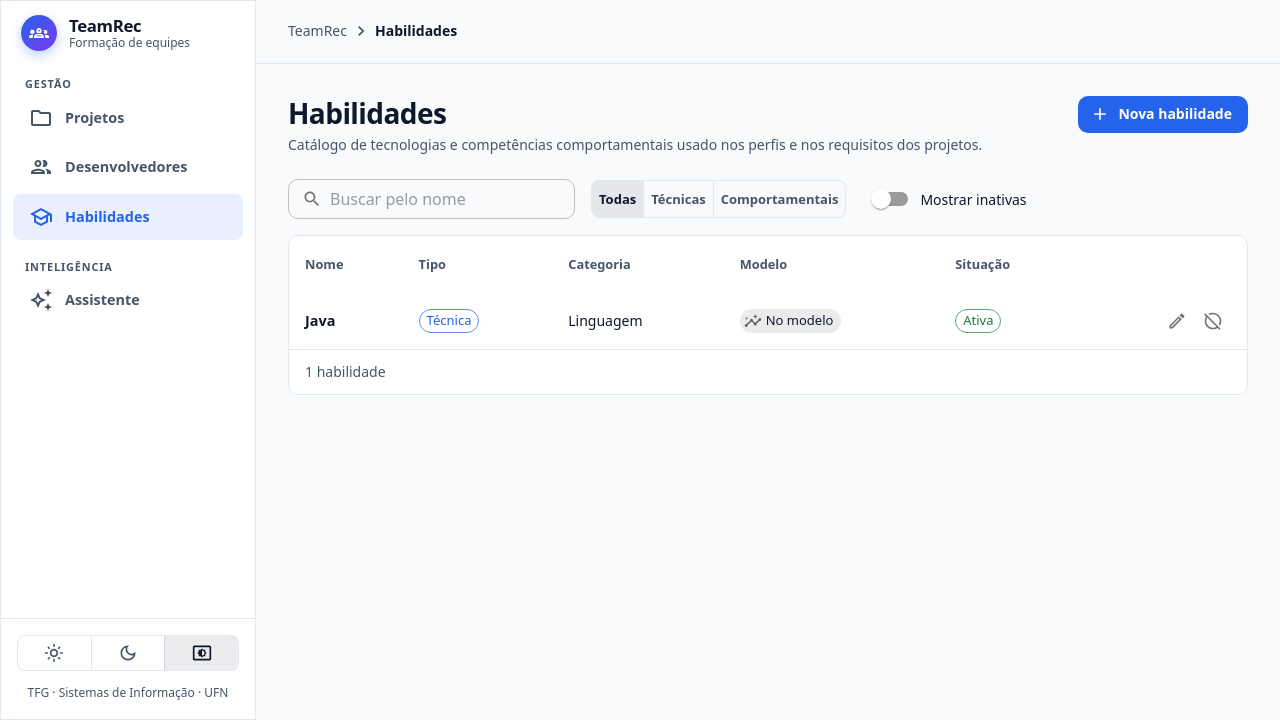
Test: pagina de habilidades › cadastra uma nova habilidade
Click the button "Nova habilidade": (1163, 114) [1078,96,1248,132]
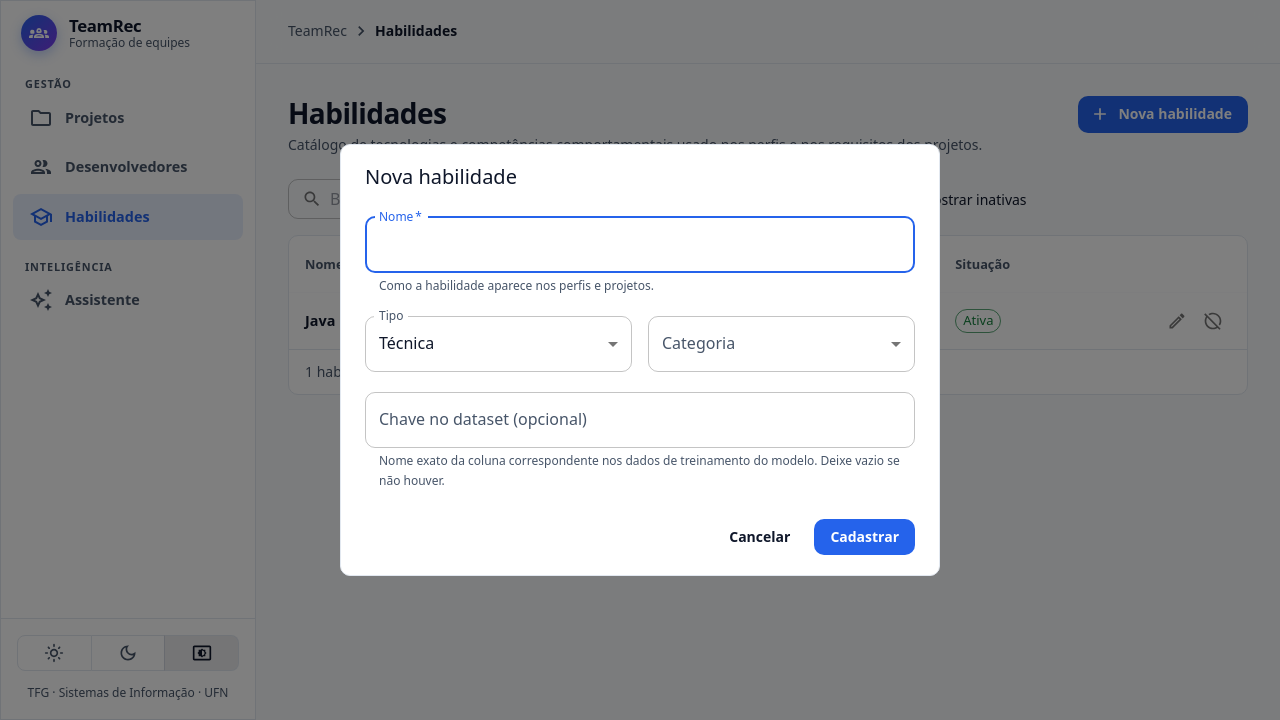
In the field labelled "Nome *": (640, 245) [365,217,915,273], type "Kotlin"
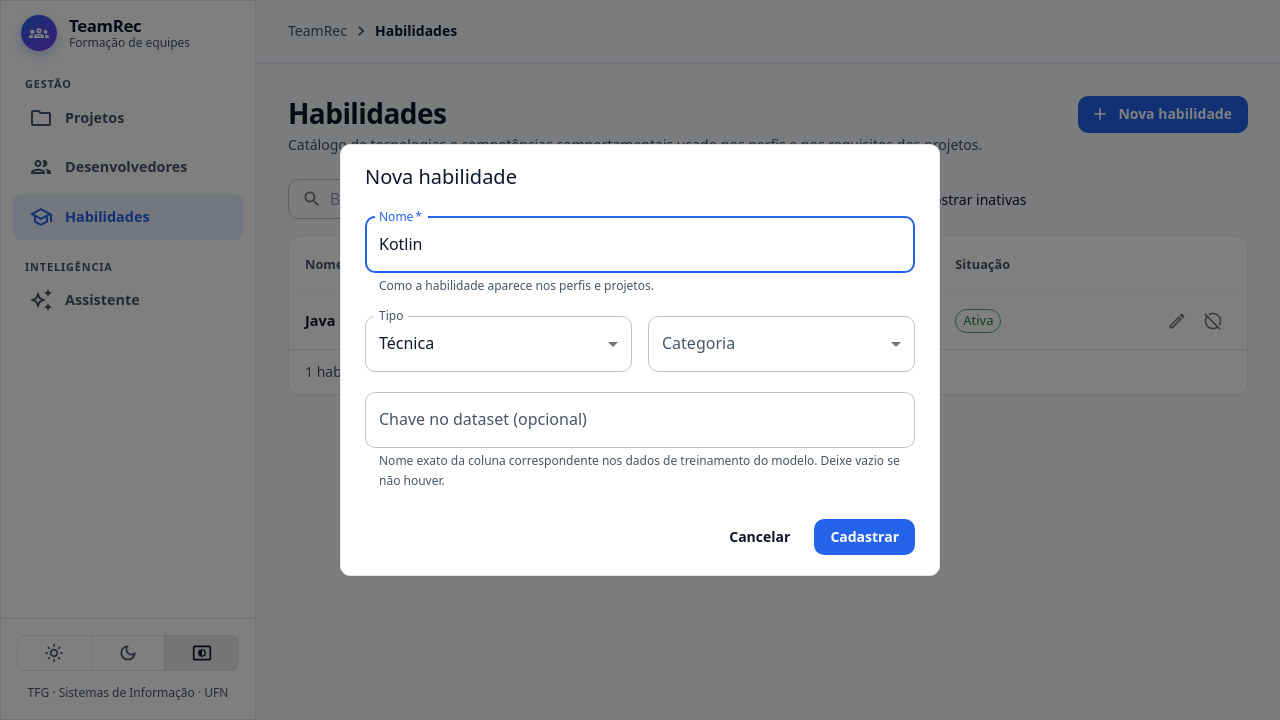
Click the dropdown named "Categoria": (782, 344) [648,316,915,372]
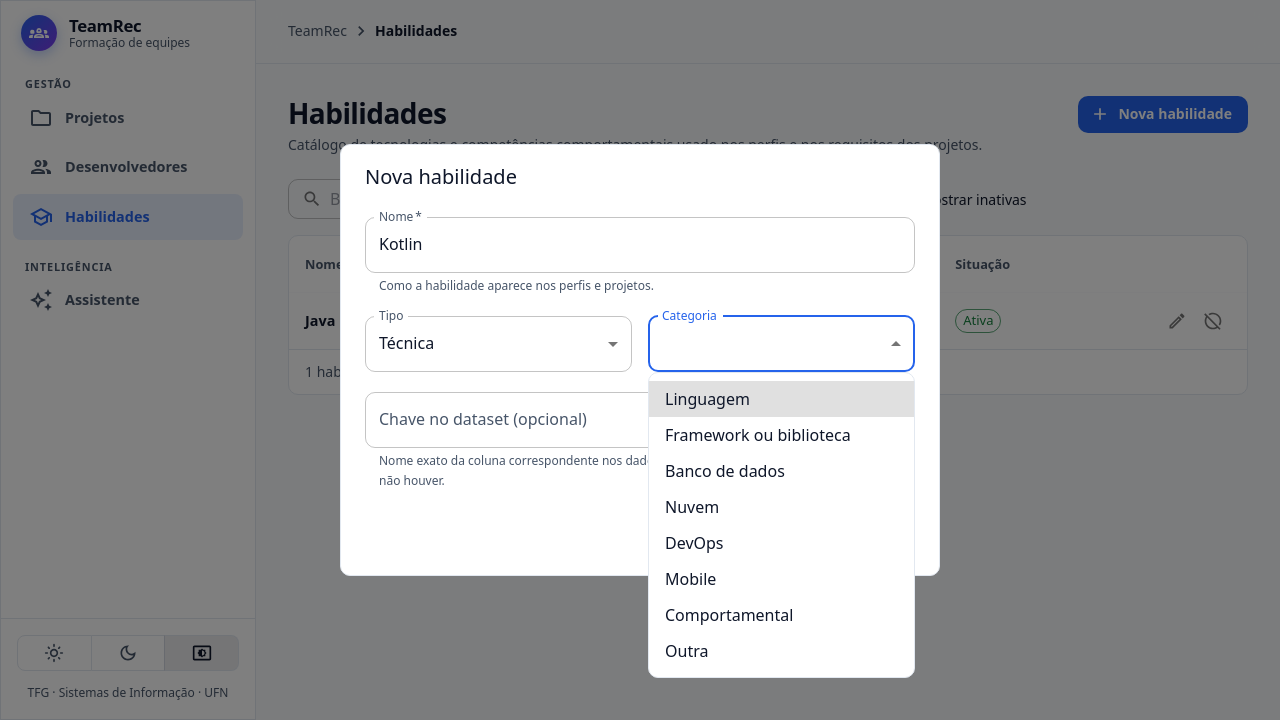
Click the option "Linguagem": (707, 399) [649,381,914,417]
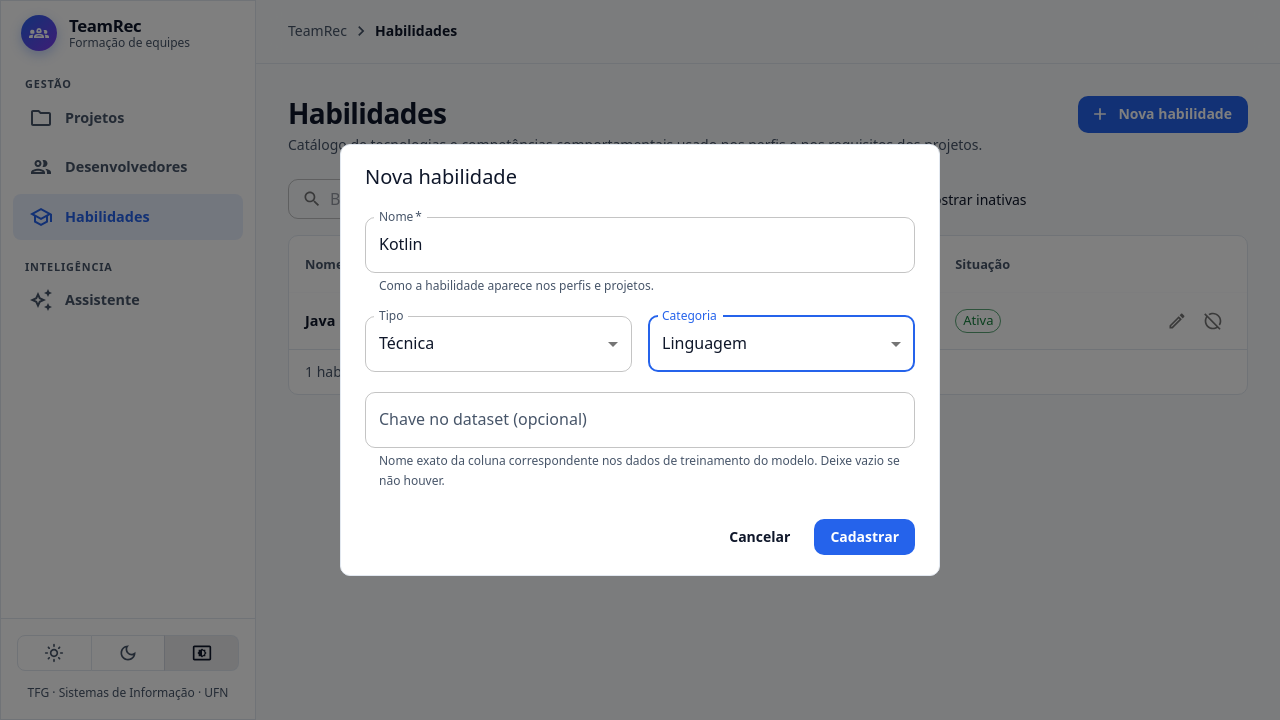
In the field labelled "Chave no dataset (opcional)": (640, 420) [365,392,915,448], type "Kotlin"
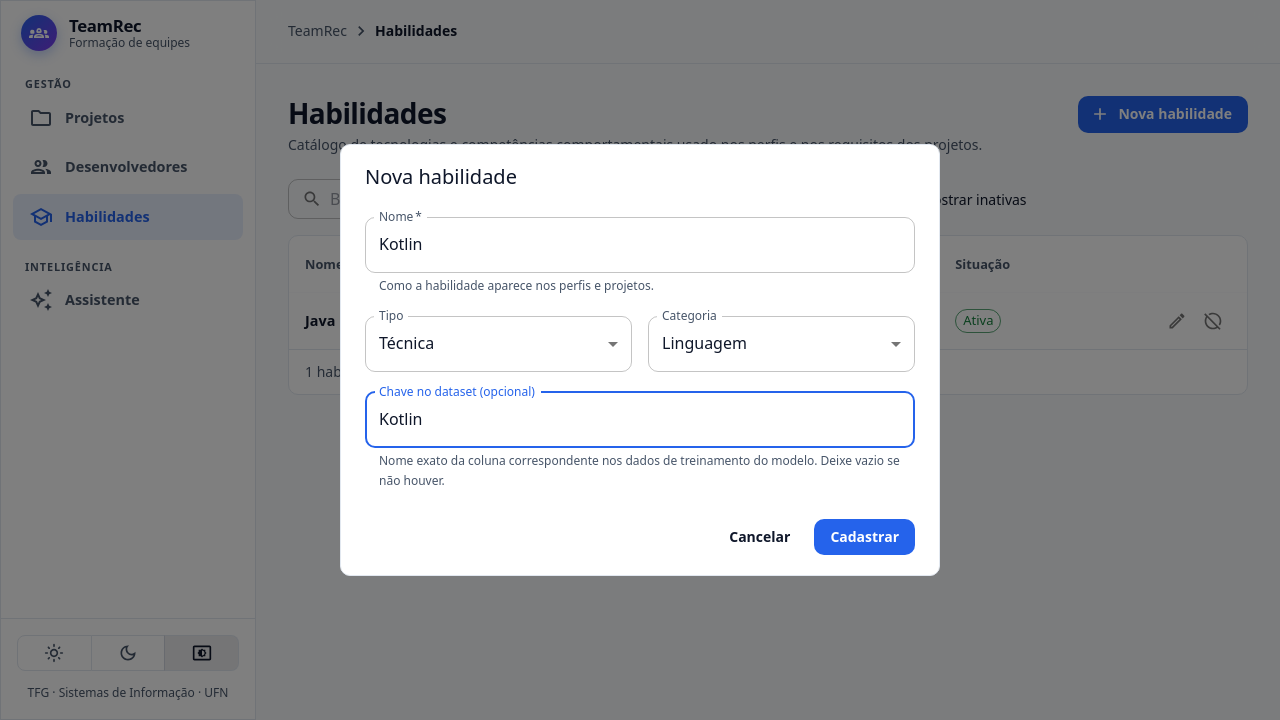
Click the button "Cadastrar": (865, 537) [814,519,915,555]
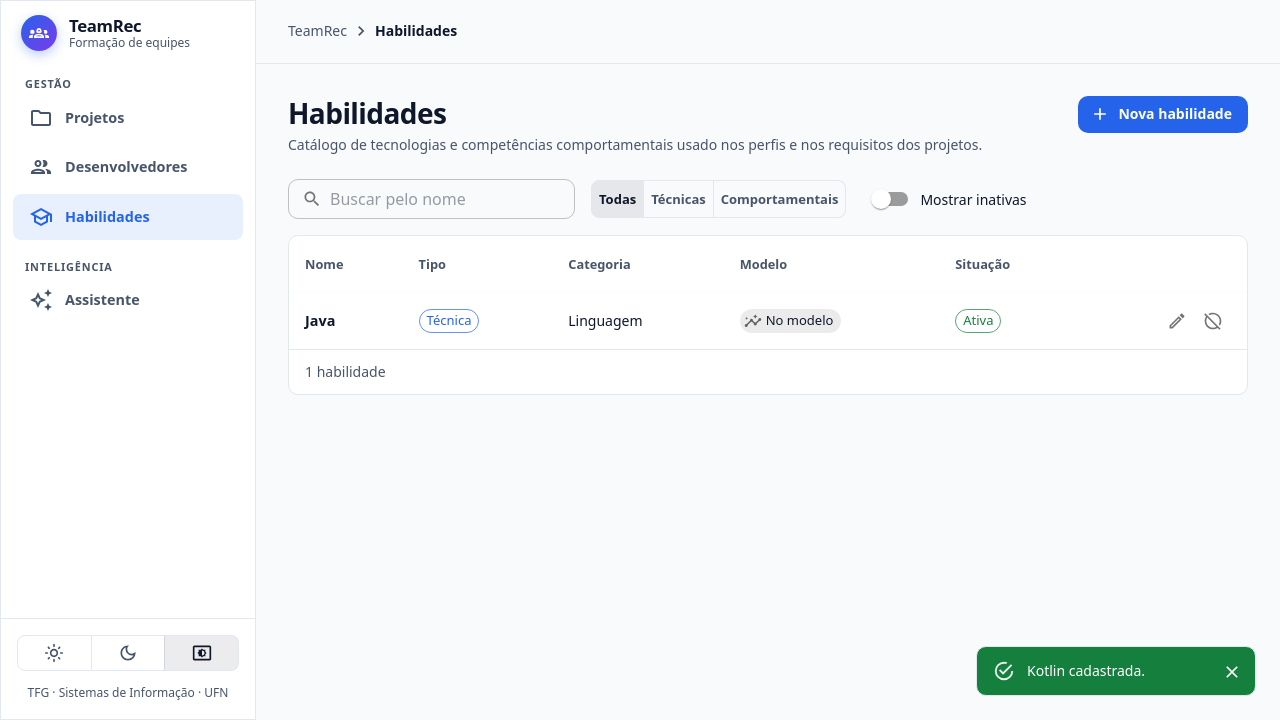
Check: the text "Kotlin cadastrada." is shown, box [1027,661,1145,680]
Check: the dialog is gone
